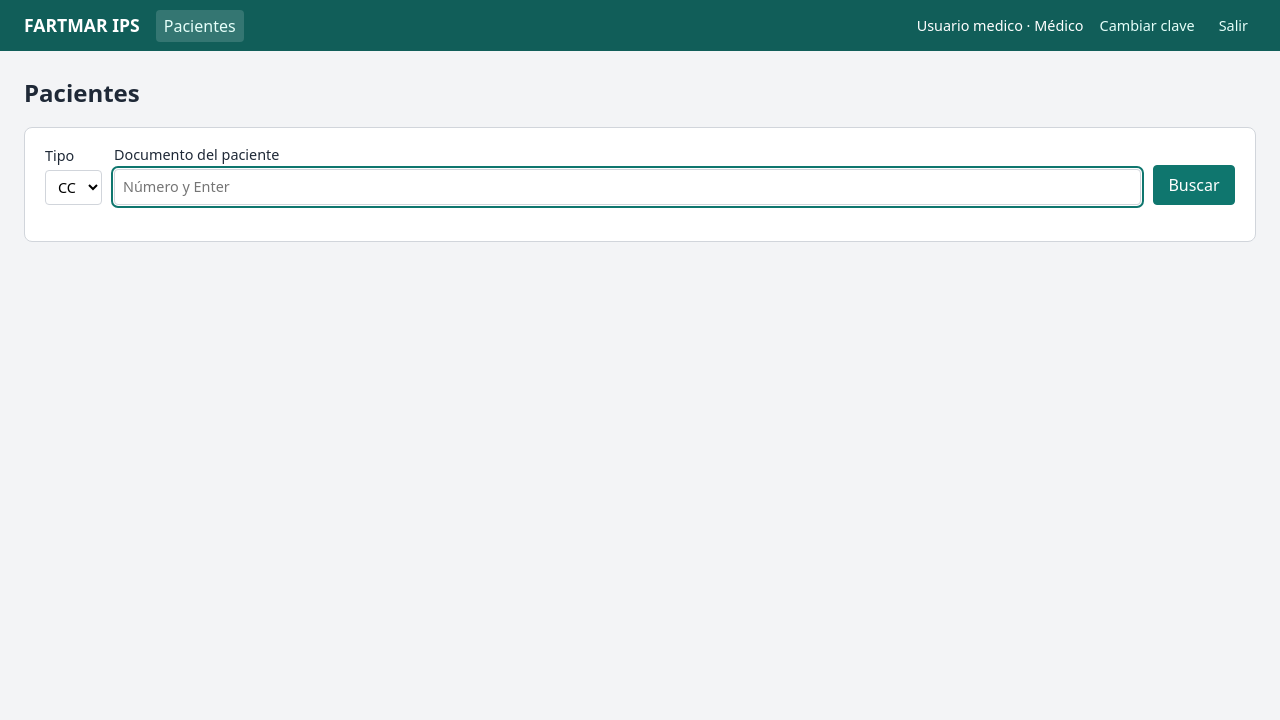
Scenario: Prescripción del médico › busca productos por q, envía la prescripción y la muestra en la lista
Type "9900000001" into the field labelled "Documento del paciente" at [628, 187], box [114, 169, 1141, 205]
Then press Enter
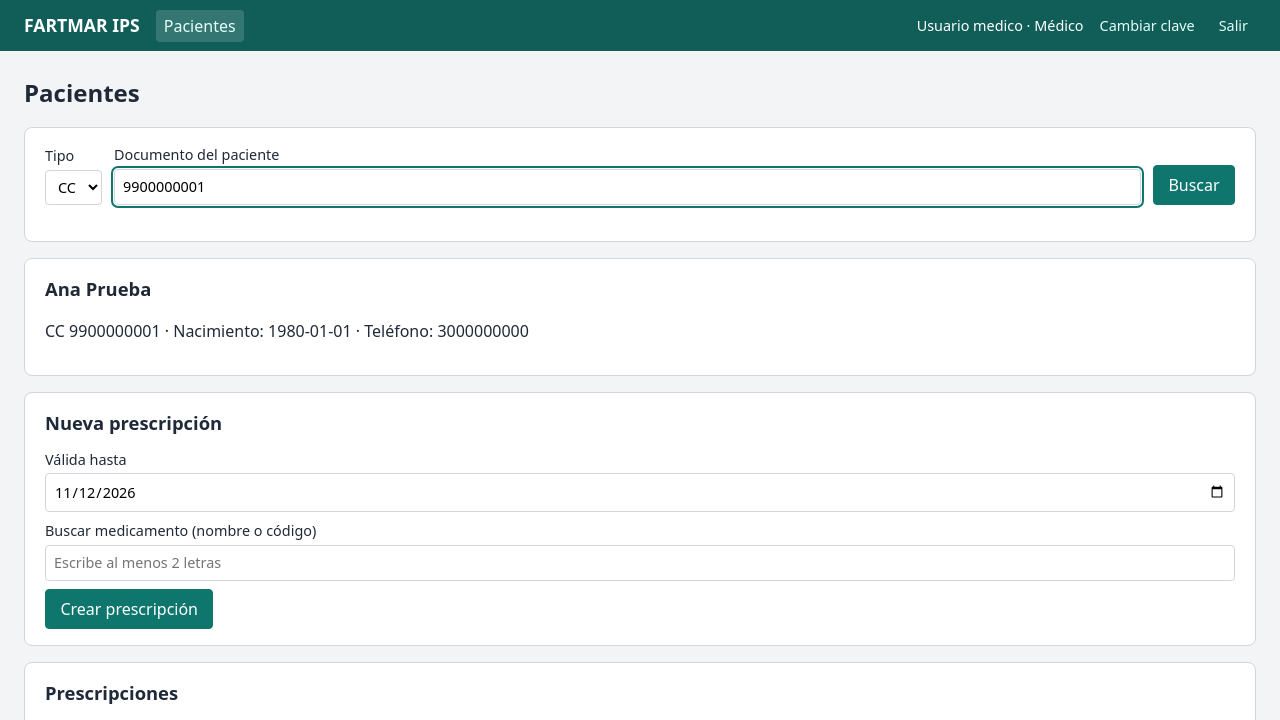
Type "acet" into the field labelled "Buscar medicamento (nombre o código)" at [640, 563], box [45, 544, 1235, 581]
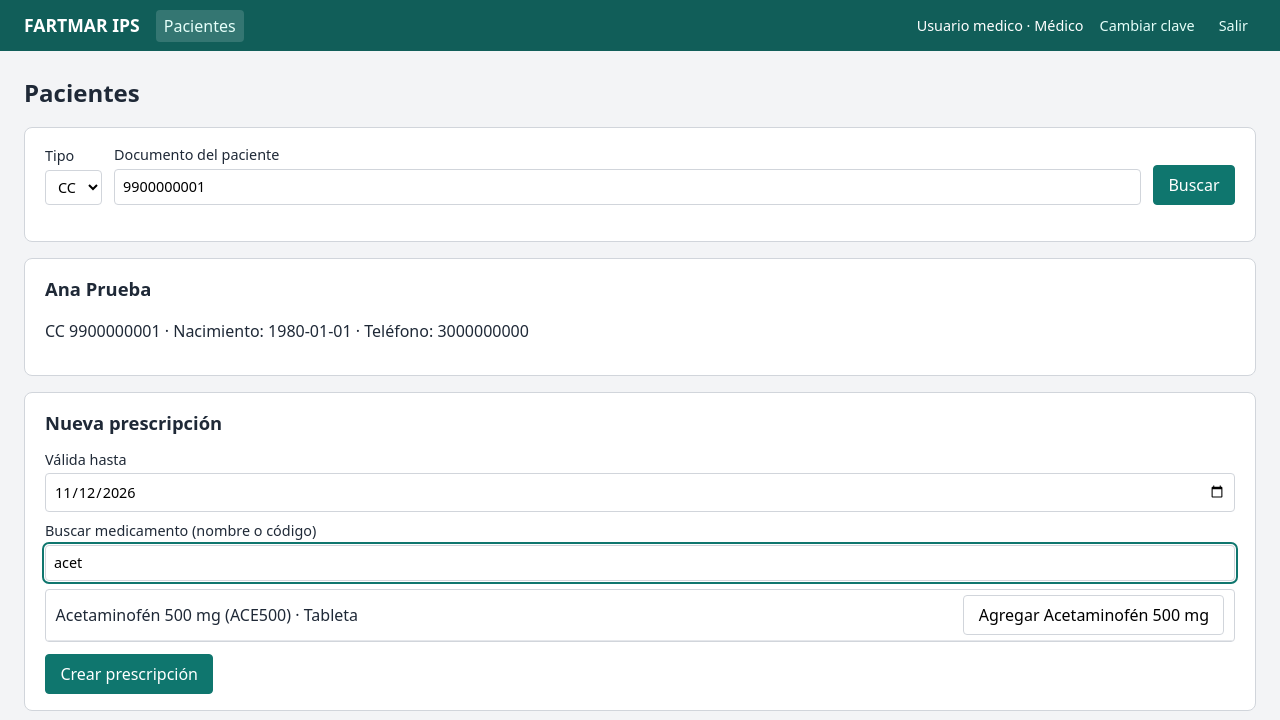
Click the button "Agregar Acetaminofén 500 mg" at [1094, 615], box [963, 595, 1224, 635]
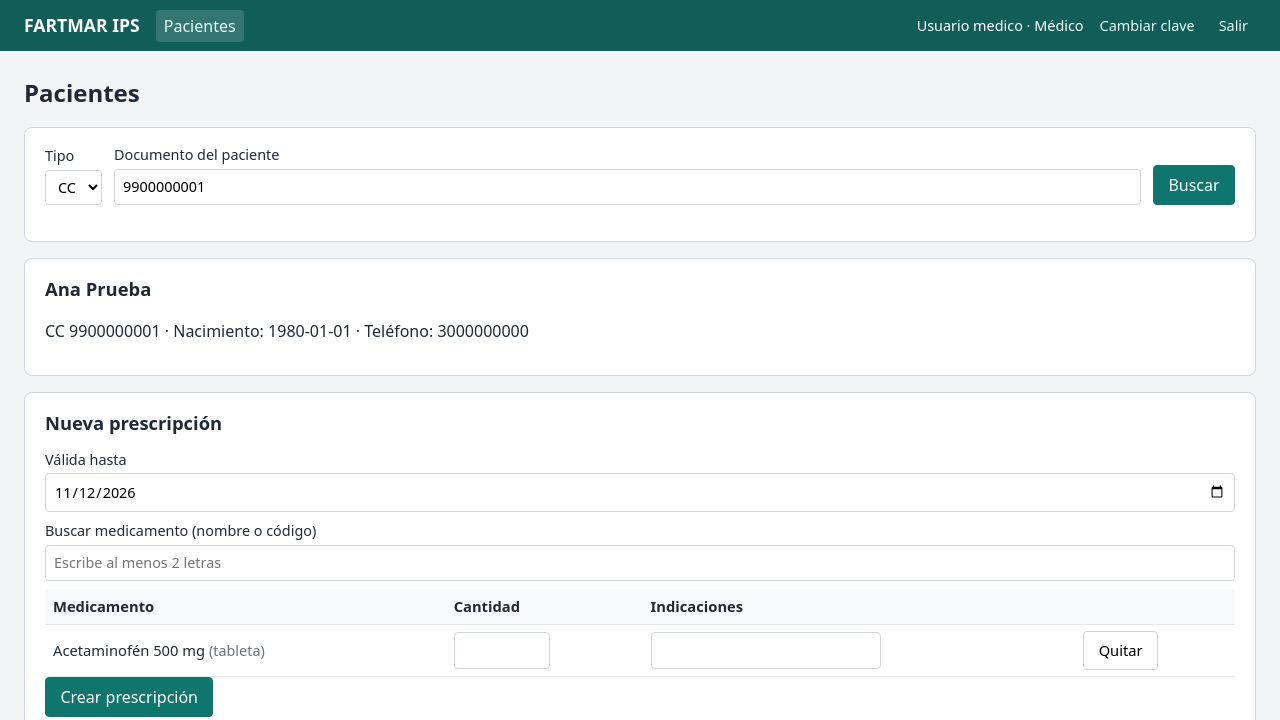
Type "20" into the number field named "Cantidad de Acetaminofén 500 mg" at [502, 650], box [454, 632, 550, 669]
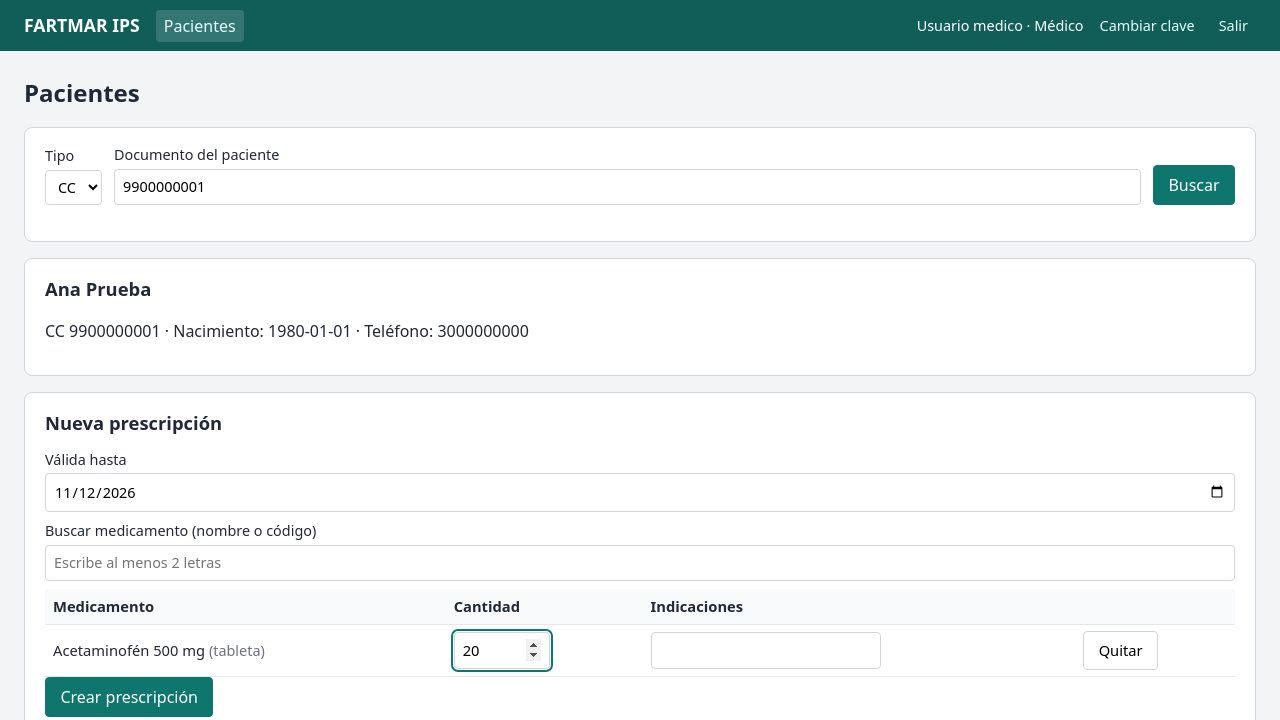
Type "Cada 8 horas" into the field named "Indicaciones de Acetaminofén 500 mg" at [766, 650], box [651, 632, 881, 669]
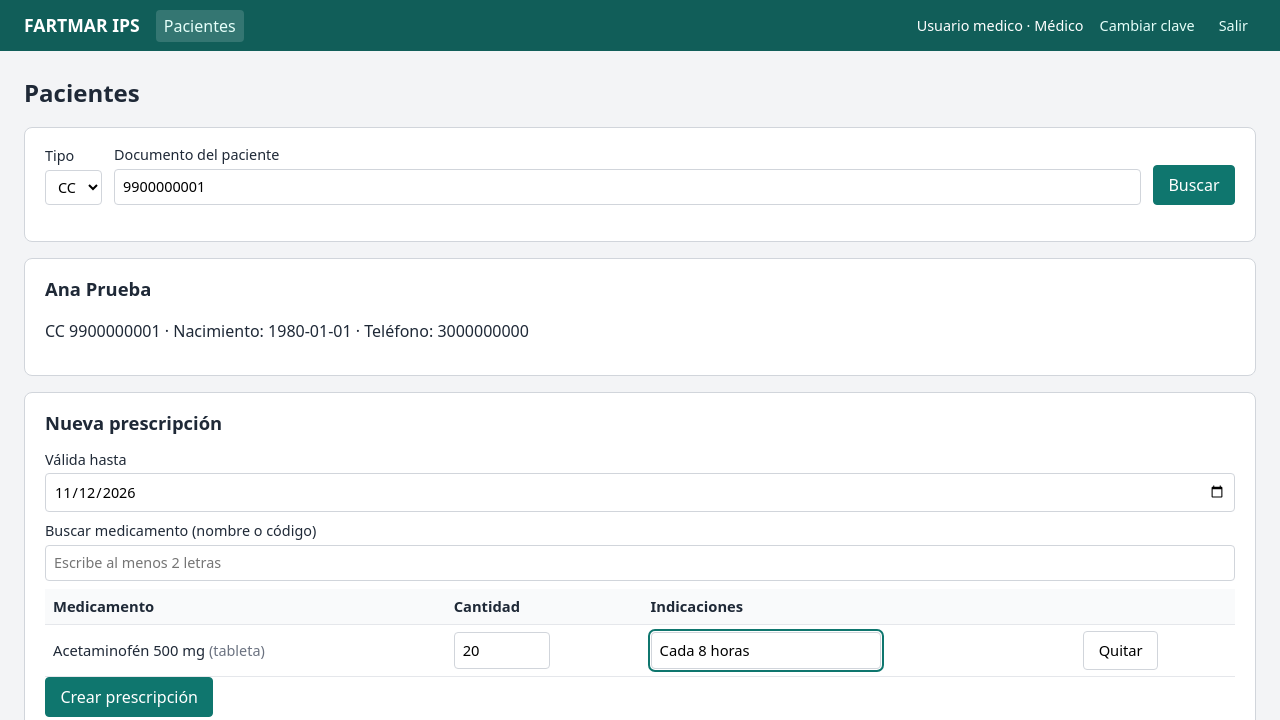
Click the button "Crear prescripción" at [129, 697], box [45, 677, 213, 717]
(page scrolled)
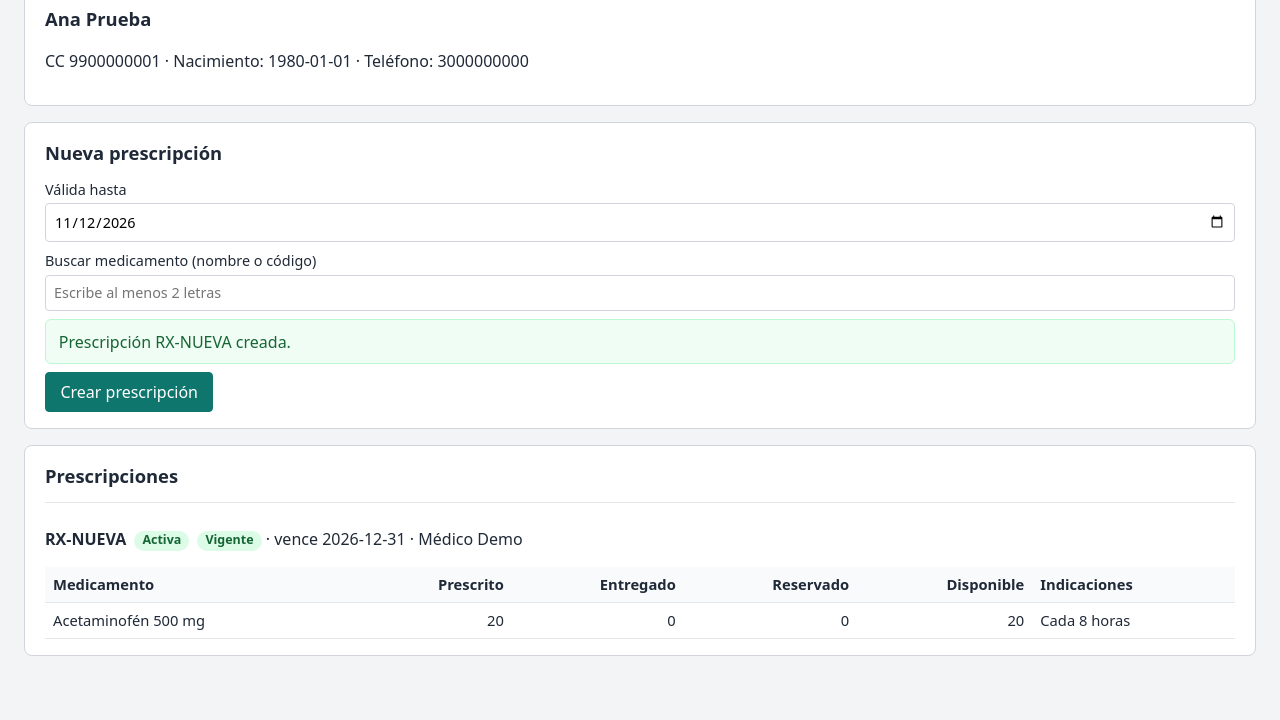
Expected: the text "Prescripción RX-NUEVA creada." is shown, [45, 319, 1235, 364]
Expected: the text "RX-NUEVA" is shown, [45, 528, 126, 550]
